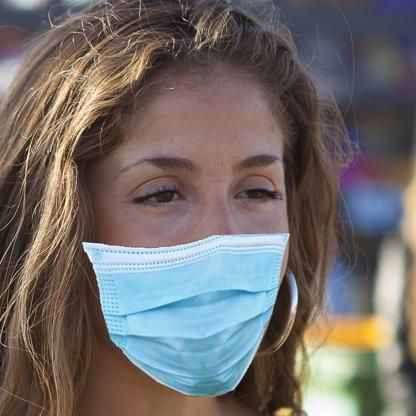mask: (76, 232, 295, 401)
